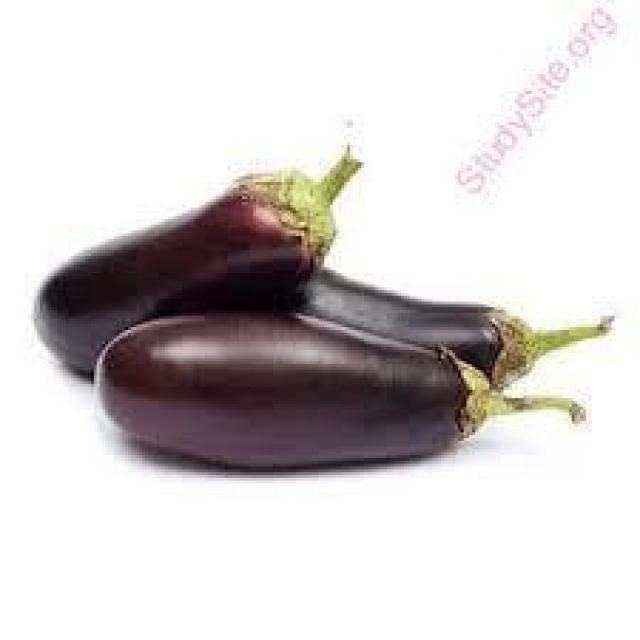Eggplant: (34, 159, 358, 384), (94, 313, 464, 472), (299, 270, 506, 381)
